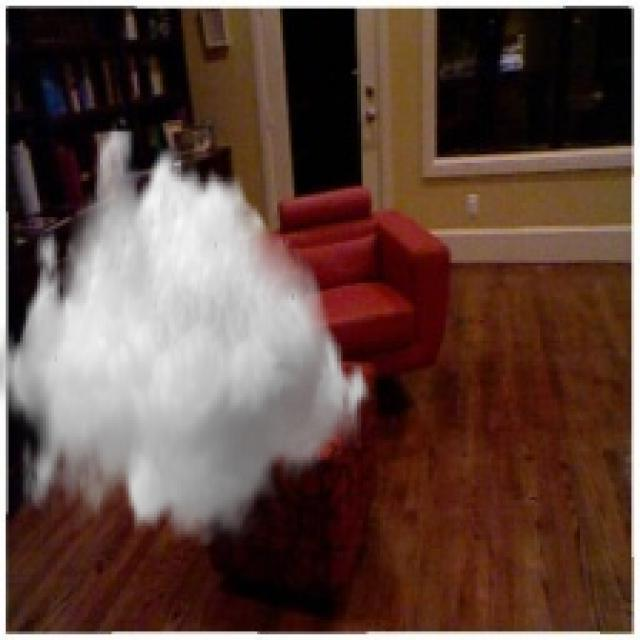Smoke: (0, 128, 377, 546)
